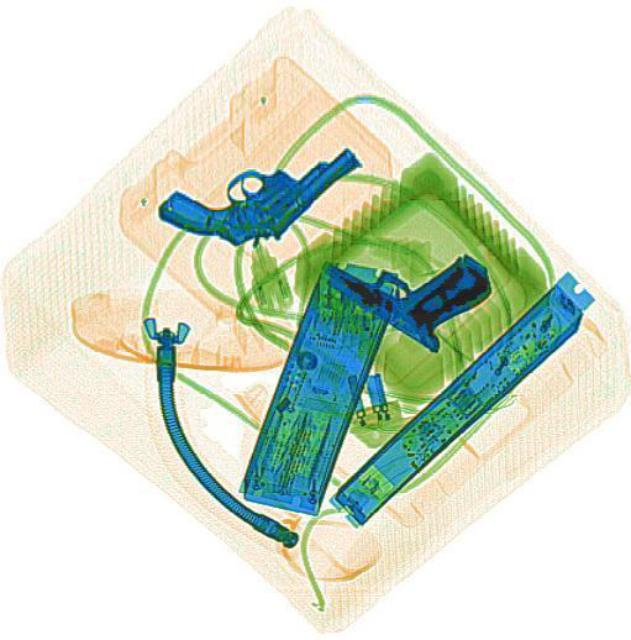Gun: (154, 92, 359, 278), (312, 192, 501, 358)
